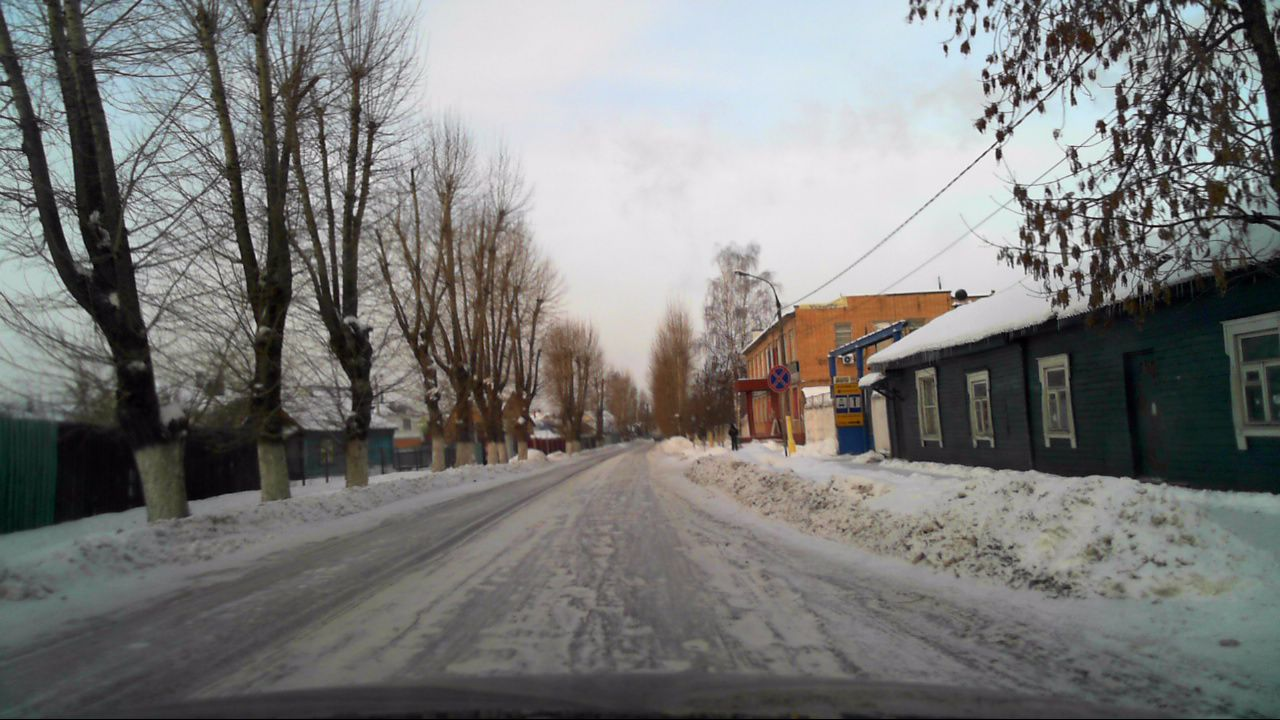No Parking: (766, 364, 792, 393)
